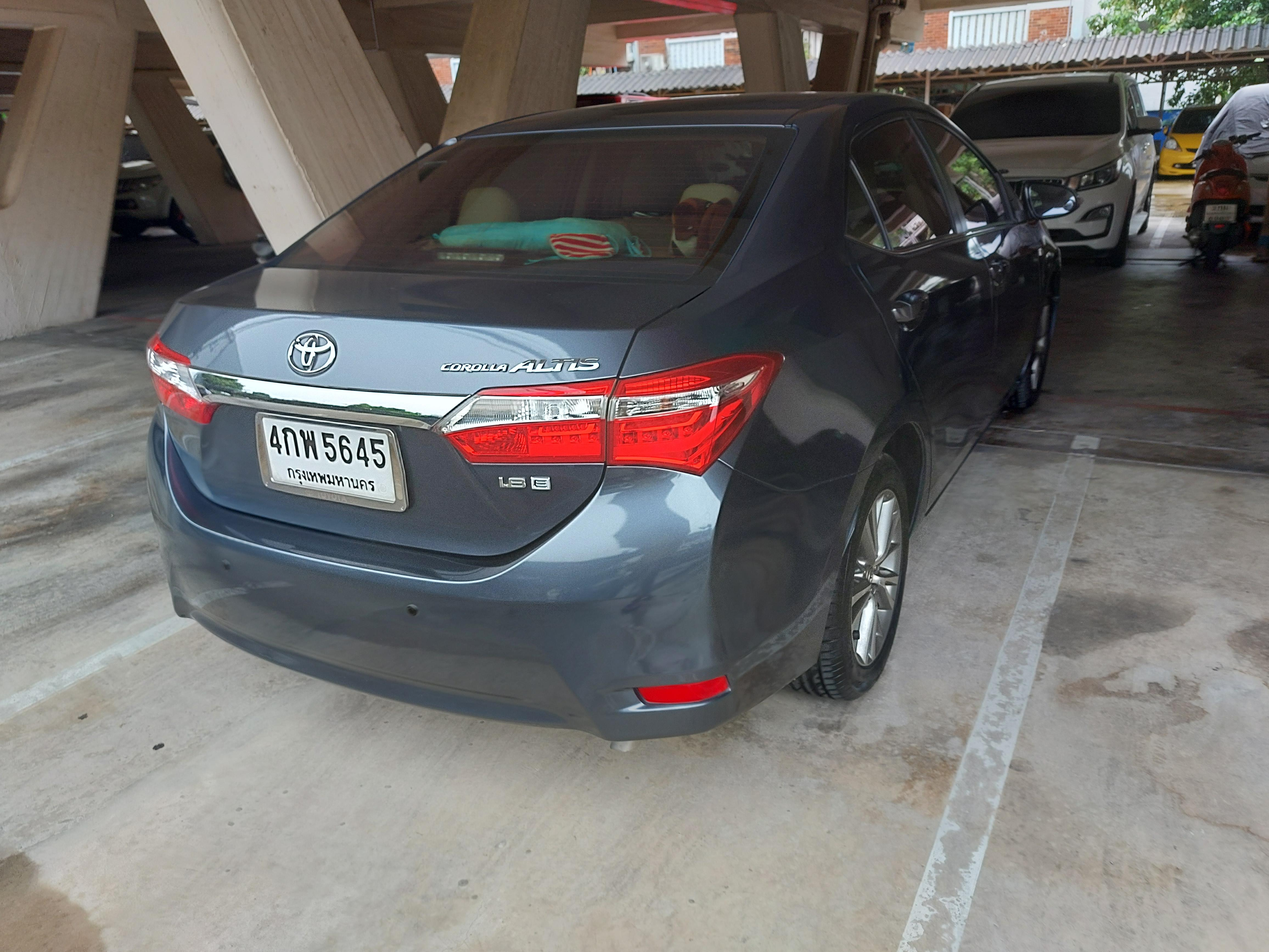license-plate: (250, 406, 416, 516)
